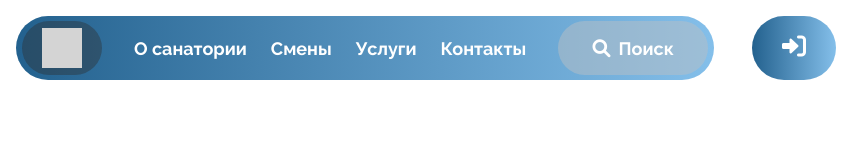
Test: Header Component › should toggle search bar when search icon is clicked
The width and height of the screenshot is (853, 160).
// Click search to expand
Click the element with class "search-container": (633, 48) [558, 21, 708, 75]
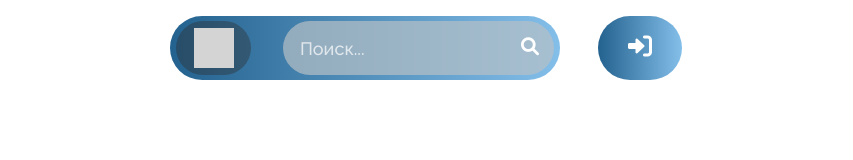
Check: the field with placeholder "Поиск..." is shown, box [298, 34, 511, 62]
